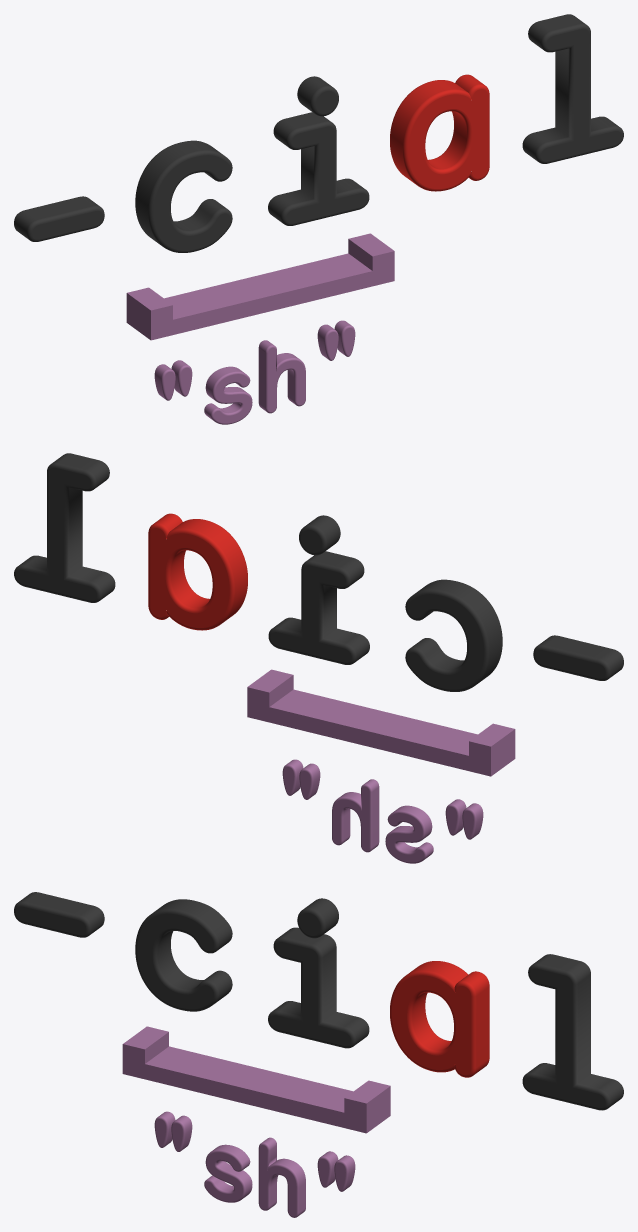
Rendered from -cial.gltf.
The picture shows the model from 3 angles, top to bottom: view 1: azimuth 30°, elevation 25°; view 2: azimuth 150°, elevation 25°; view 3: azimuth 330°, elevation 25°; orthographic projection.
Parts seen in each view (by area): view 1: Text, Cube.000, Text.005, Text.003, Text.001; view 2: Text, Cube.000, Text.005, Text.003, Text.001; view 3: Text, Cube.000, Text.005, Text.003, Text.001.
Boxes of the visible parts, x1,y1,x2,y2 form: Text: [268, 14, 623, 225]; Cube.000: [126, 233, 394, 340]; Text.005: [14, 140, 232, 252]; Text.003: [390, 74, 489, 191]; Text.001: [154, 320, 355, 424]; Text: [14, 453, 369, 664]; Cube.000: [247, 669, 515, 776]; Text.005: [405, 579, 623, 691]; Text.003: [148, 513, 247, 630]; Text.001: [282, 759, 483, 863]; Text: [268, 898, 623, 1110]; Cube.000: [122, 1026, 390, 1133]; Text.005: [14, 892, 232, 1011]; Text.003: [390, 961, 489, 1077]; Text.001: [154, 1111, 355, 1217].
Bounding box in the file's own units: 2.72 × 1.38 × 0.1906.
